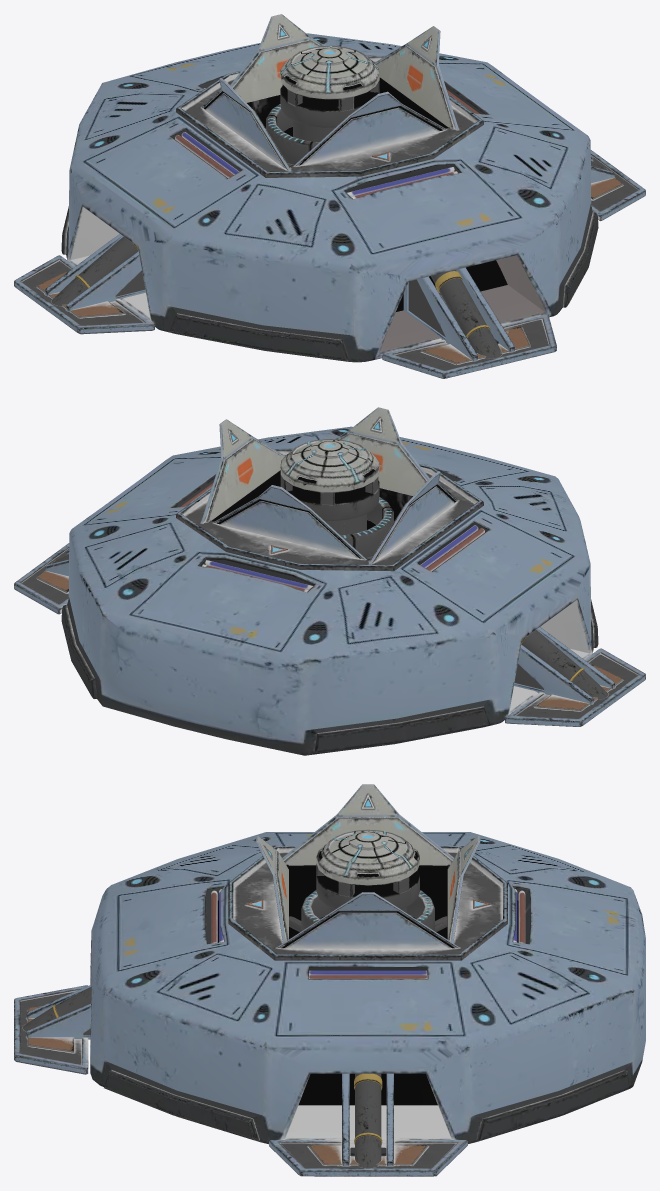
File: projector.glb
3 views of the same model, one above another, from view 1: azimuth 30°, elevation 25°; view 2: azimuth 150°, elevation 25°; view 3: azimuth 270°, elevation 25° (orthographic). The views are drawn at different scales.
Parts seen in each view (by area): view 1: Cube__0; view 2: Cube__0; view 3: Cube__0.
Boxes of the visible parts, bbox=[...] form: Cube__0: bbox=[14, 14, 645, 378]; Cube__0: bbox=[14, 407, 645, 755]; Cube__0: bbox=[14, 784, 645, 1176].
Bounding box in the file's own units: 1.69 × 0.552 × 1.56.
1 material, 1 textured.
